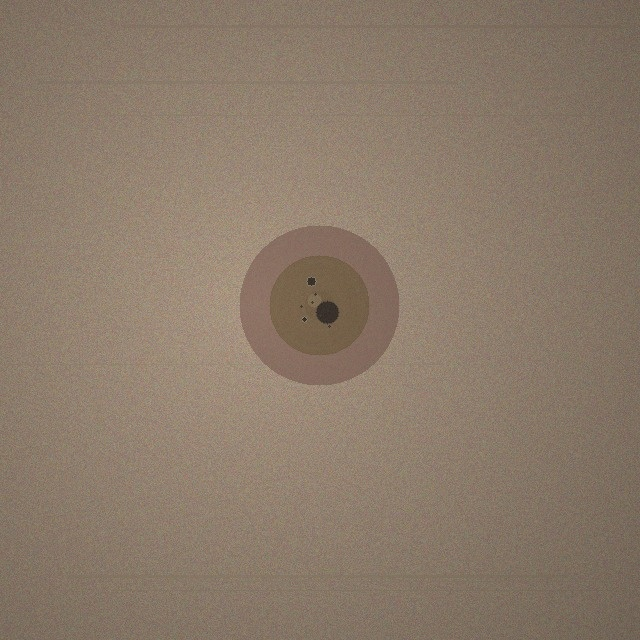shrinkage: (239, 225, 399, 385)
